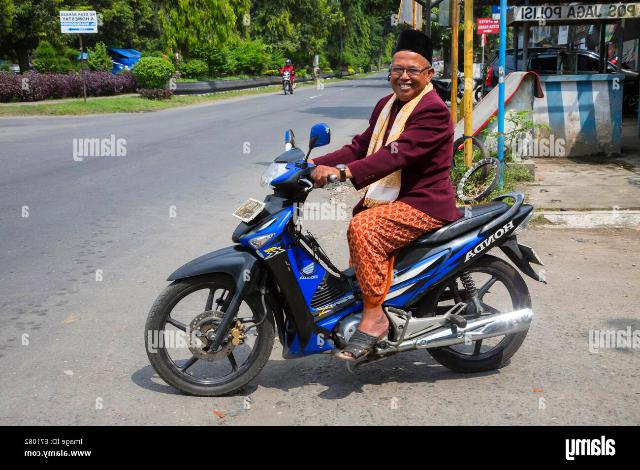motor: (146, 148, 551, 398)
non-helm: (391, 30, 435, 102)
